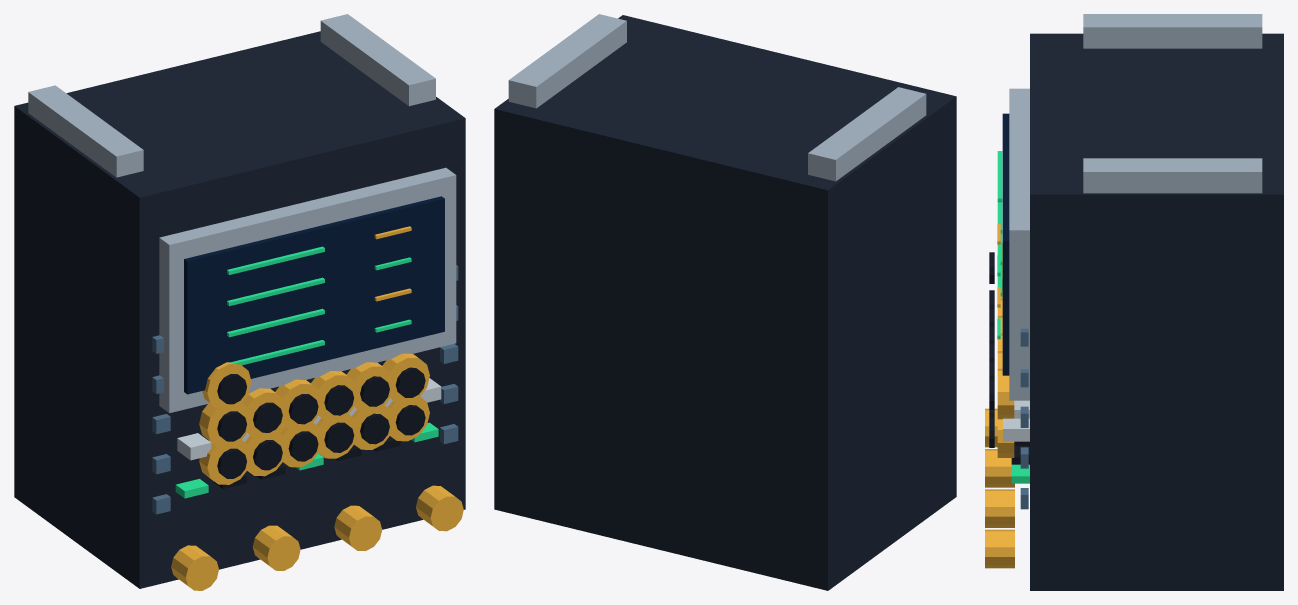
The model's file is 44_L85_RelativeNavigationFusionComputer.fbx.
3 renders of one model, left to right at view 1: azimuth 30°, elevation 25°; view 2: azimuth 150°, elevation 25°; view 3: azimuth 270°, elevation 25°, orthographic. The views are drawn at different scales.
Visible parts, largest first — view 1: L85_RelativeNavigationFusionComputer, L85_RelativeNavigationFusionComputer_Part_0021, L85_RelativeNavigationFusionComputer_Part_0009, L85_RelativeNavigationFusionComputer_Part_0027, L85_RelativeNavigationFusionComputer_Part_0031, L85_RelativeNavigationFusionComputer_Part_0023, L85_RelativeNavigationFusionComputer_Part_0029, L85_RelativeNavigationFusionComputer_Part_0025, L85_RelativeNavigationFusionComputer_Part_0033, L85_RelativeNavigationFusionComputer_Part_0017, L85_RelativeNavigationFusionComputer_Part_0011, L85_RelativeNavigationFusionComputer_Part_0015 (+15 smaller); view 2: L85_RelativeNavigationFusionComputer; view 3: L85_RelativeNavigationFusionComputer, L85_RelativeNavigationFusionComputer_Part_0031, L85_RelativeNavigationFusionComputer_Part_0019.
Boxes of the visible parts, box(x1,y1,x2,y2) form: L85_RelativeNavigationFusionComputer: box(14, 14, 465, 590); L85_RelativeNavigationFusionComputer_Part_0021: box(199, 401, 251, 447); L85_RelativeNavigationFusionComputer_Part_0009: box(199, 439, 251, 484); L85_RelativeNavigationFusionComputer_Part_0027: box(311, 371, 358, 421); L85_RelativeNavigationFusionComputer_Part_0031: box(382, 353, 429, 403); L85_RelativeNavigationFusionComputer_Part_0023: box(242, 388, 287, 438); L85_RelativeNavigationFusionComputer_Part_0029: box(346, 362, 394, 410); L85_RelativeNavigationFusionComputer_Part_0025: box(275, 379, 322, 428); L85_RelativeNavigationFusionComputer_Part_0033: box(202, 362, 251, 408); L85_RelativeNavigationFusionComputer_Part_0017: box(351, 404, 394, 449); L85_RelativeNavigationFusionComputer_Part_0011: box(244, 430, 287, 476); L85_RelativeNavigationFusionComputer_Part_0015: box(316, 413, 356, 458); L85_RelativeNavigationFusionComputer: box(494, 14, 956, 590); L85_RelativeNavigationFusionComputer: box(985, 14, 1283, 590); L85_RelativeNavigationFusionComputer_Part_0031: box(997, 368, 1014, 419); L85_RelativeNavigationFusionComputer_Part_0019: box(997, 419, 1014, 457).
Size of the model in its own units: 95.88 by 116 by 75.2.
